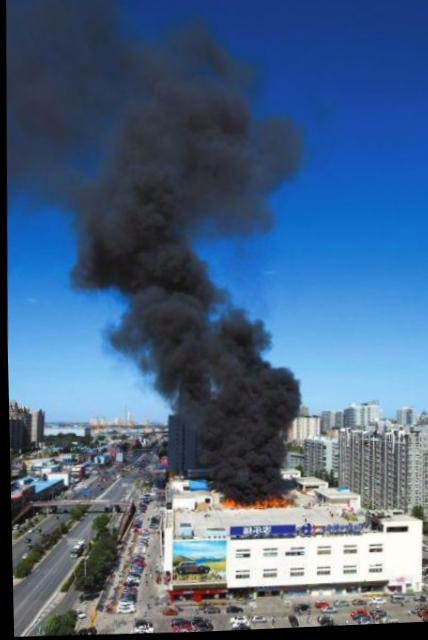fire: (219, 497, 288, 513)
